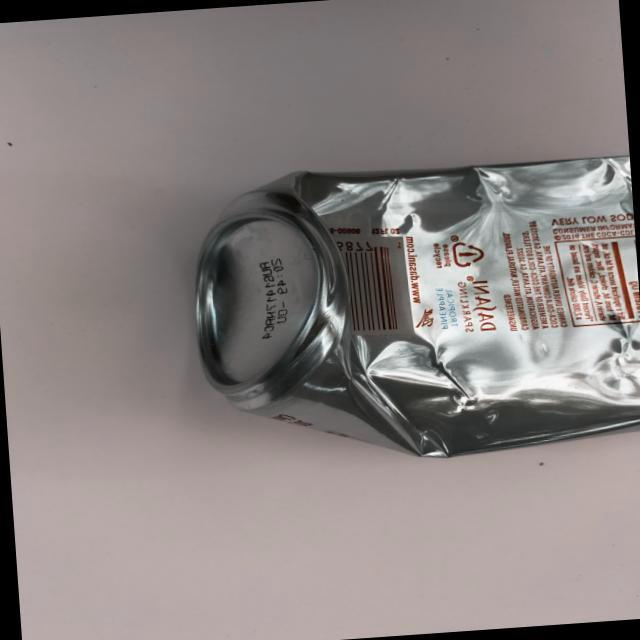metal: (165, 134, 640, 488)
